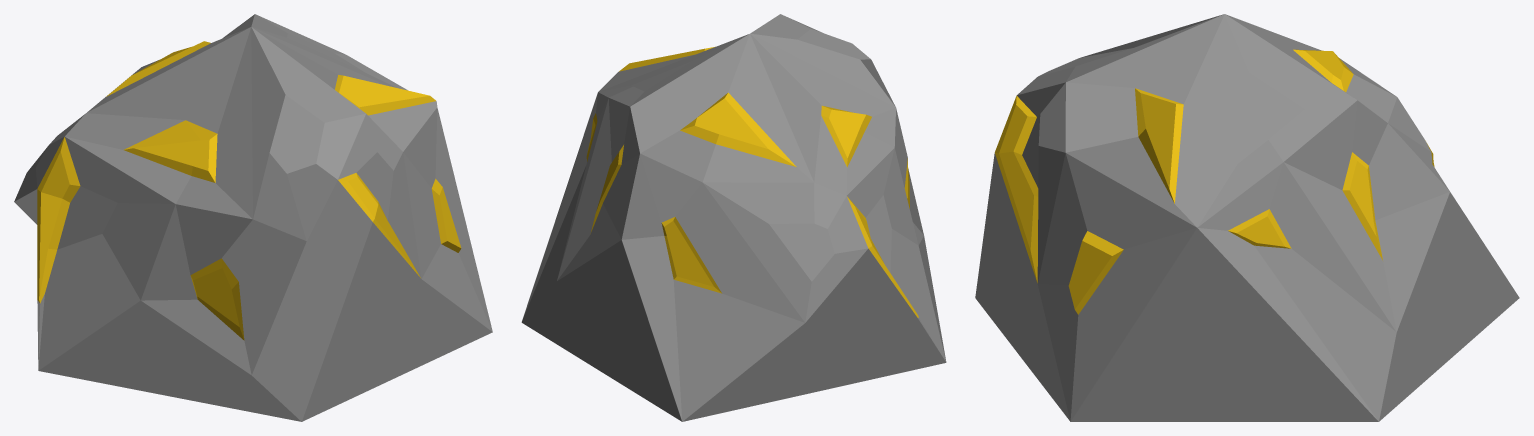
The model's file is goldOre_V1.fbx.
3 views of the same model, side by side, from view 1: azimuth 30°, elevation 25°; view 2: azimuth 150°, elevation 25°; view 3: azimuth 270°, elevation 25° (orthographic). The views are drawn at different scales.
Visible parts, largest first — view 1: rock_1; view 2: rock_1; view 3: rock_1.
Part boxes in pixels (x1,y1,x2,y2): rock_1: (14,14,492,421); rock_1: (521,14,946,421); rock_1: (975,14,1519,421).
Bounding box in the file's own units: 1632 × 1214 × 1856.
